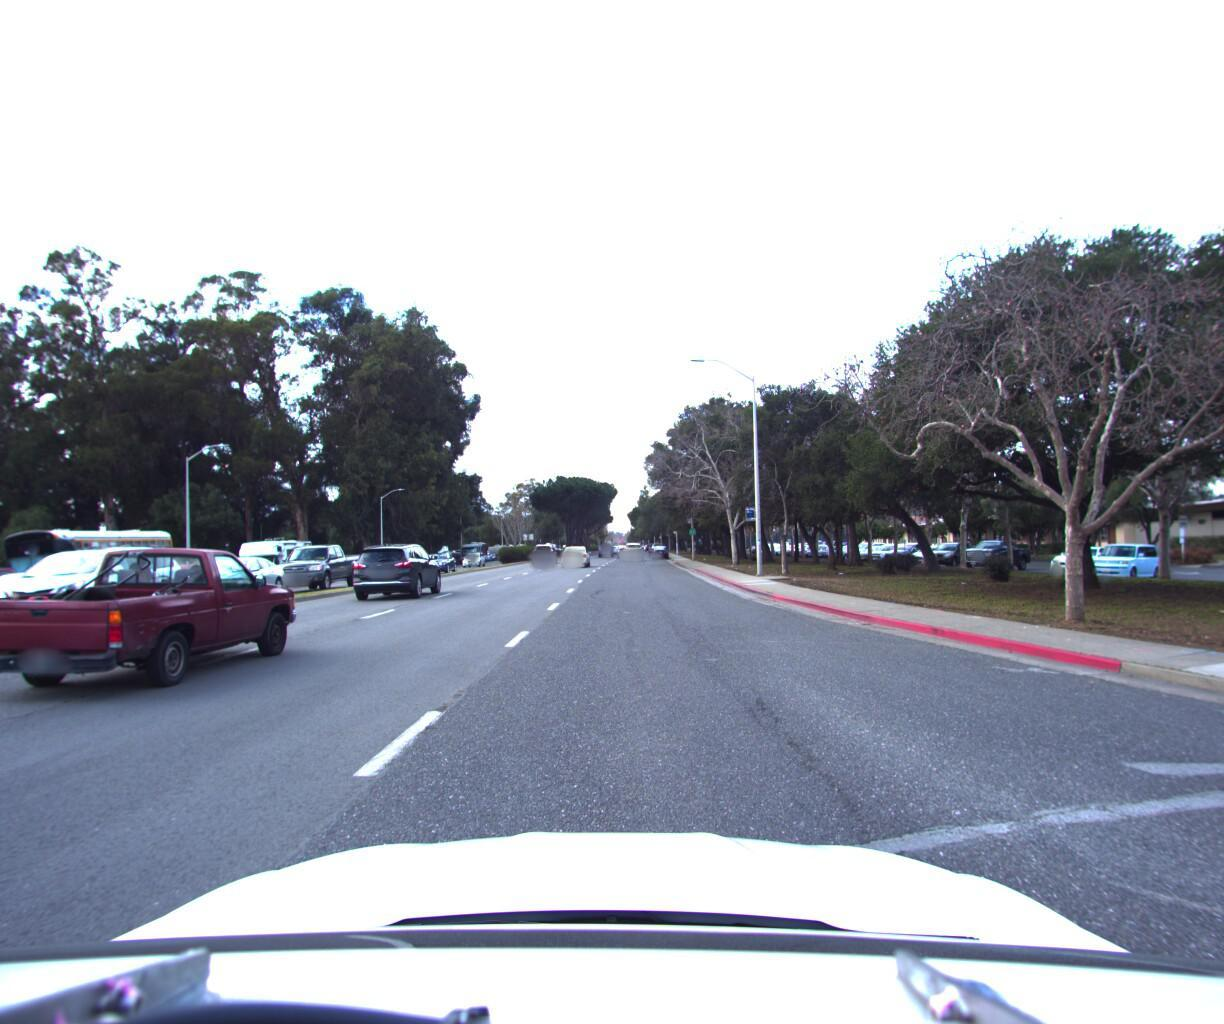bus: (5, 518, 186, 604)
car: (0, 539, 315, 709), (0, 539, 195, 629), (170, 549, 293, 603), (352, 538, 450, 598), (0, 569, 94, 626), (265, 538, 366, 589), (0, 563, 37, 616), (418, 545, 458, 569), (560, 534, 590, 562), (529, 537, 556, 559), (620, 535, 642, 554), (456, 546, 480, 564), (649, 538, 667, 553)
other_vehicle: (233, 530, 319, 582)
